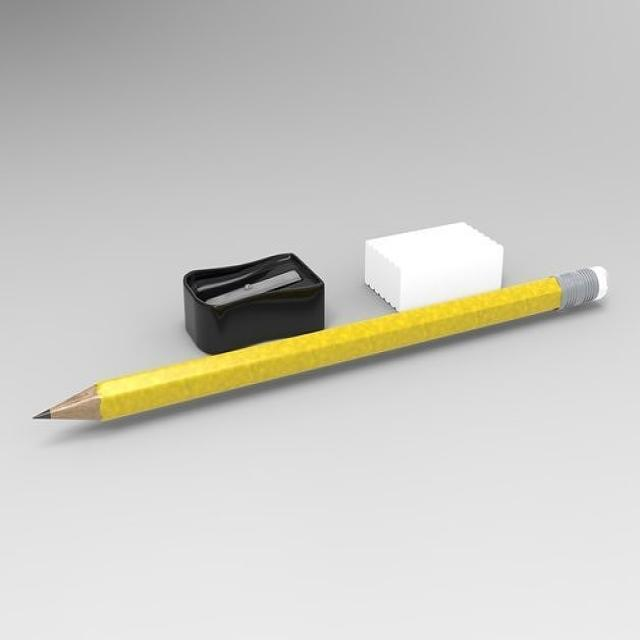pencil: (23, 252, 616, 454)
